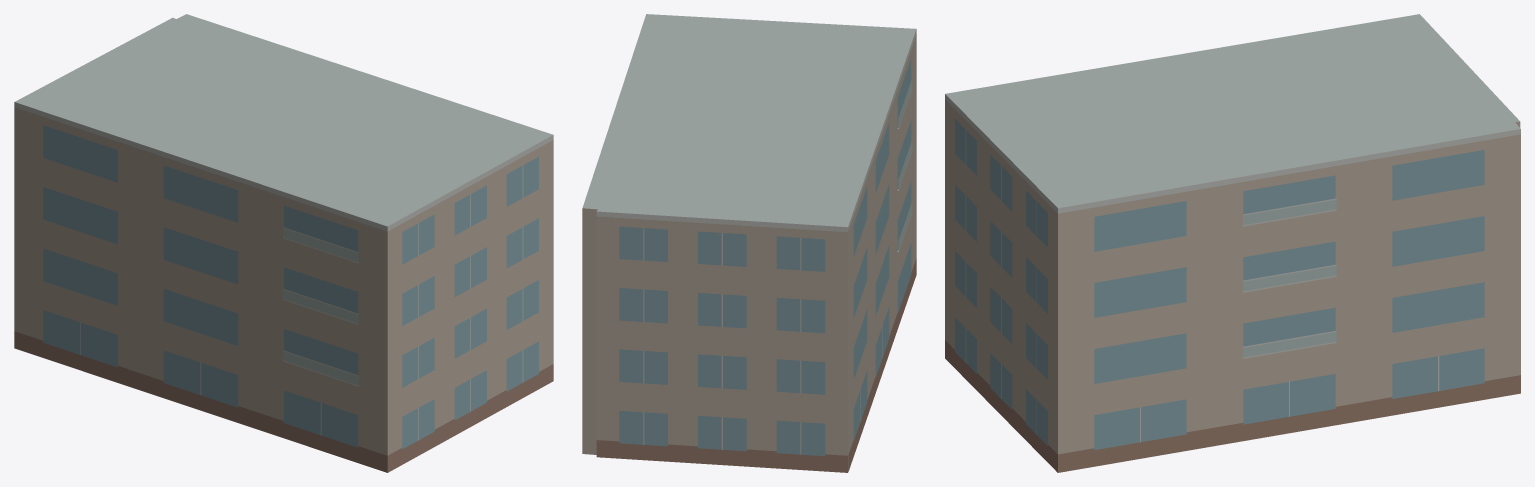
File: survey-upis-32835338.glb
The picture shows the model from 3 angles, left to right: view 1: azimuth 30°, elevation 25°; view 2: azimuth 150°, elevation 25°; view 3: azimuth 270°, elevation 25°; orthographic projection. The views are drawn at different scales.
Parts seen in each view (by area): view 1: survey-upis-32835338.tmp; view 2: survey-upis-32835338.tmp; view 3: survey-upis-32835338.tmp.
Part boxes in pixels (<box>): survey-upis-32835338.tmp: <box>14,14,553,472</box>; survey-upis-32835338.tmp: <box>582,14,916,472</box>; survey-upis-32835338.tmp: <box>945,14,1520,472</box>.
Size of the model in its own units: 18.91 by 12 by 23.68.
